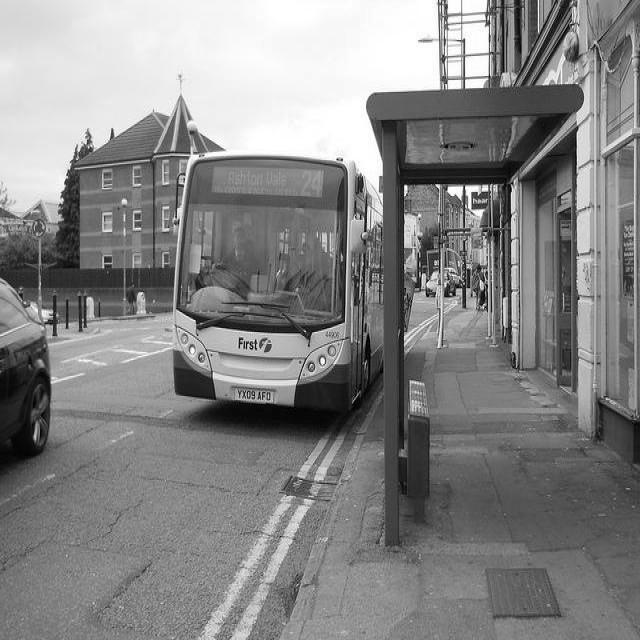vehicle: (169, 159, 386, 422), (0, 280, 57, 458), (426, 271, 456, 299), (30, 302, 61, 327), (448, 271, 464, 287)
